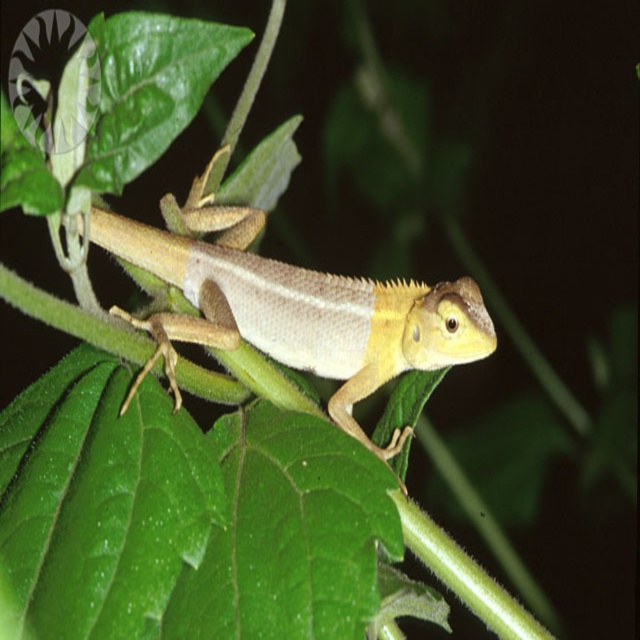Lizard: (52, 144, 499, 495)
